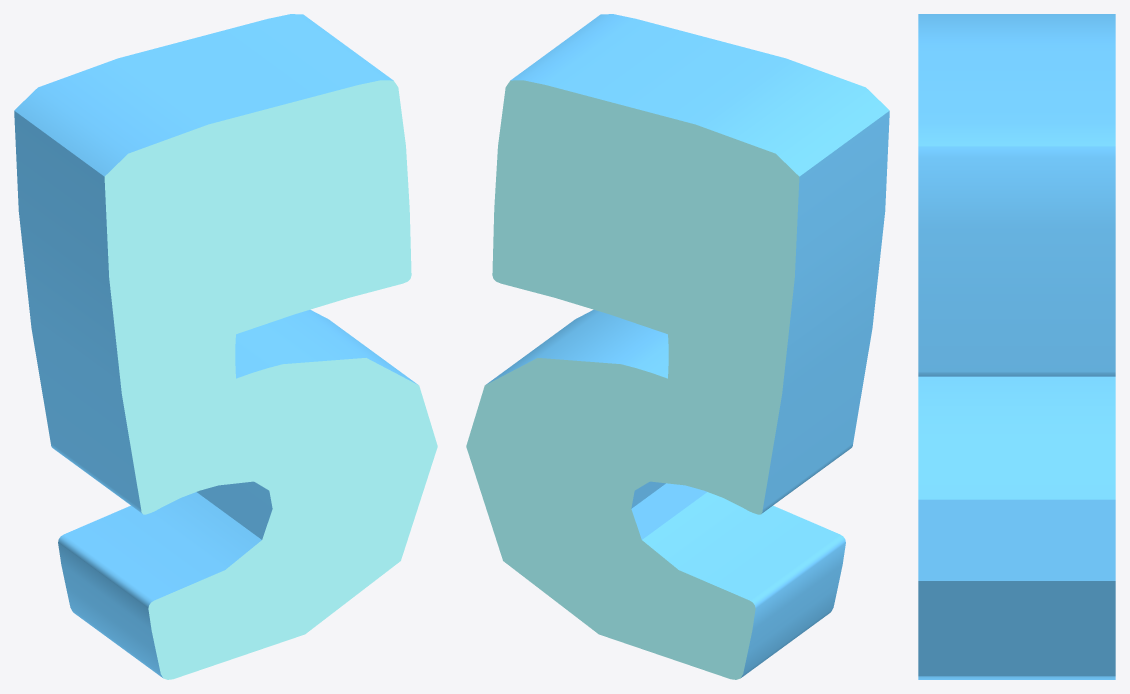
3 renders of one model, left to right at view 1: azimuth 30°, elevation 25°; view 2: azimuth 150°, elevation 25°; view 3: azimuth 270°, elevation 25°, orthographic. The views are drawn at different scales.
Visible parts, largest first — view 1: 5; view 2: 5; view 3: 5.
Boxes of the visible parts, box(x1,y1,x2,y2) form: 5: box(14, 14, 437, 679); 5: box(466, 14, 889, 679); 5: box(918, 14, 1115, 679).
Size of what is drawn, in the model's own units: 0.3832 by 0.6034 by 0.18.
